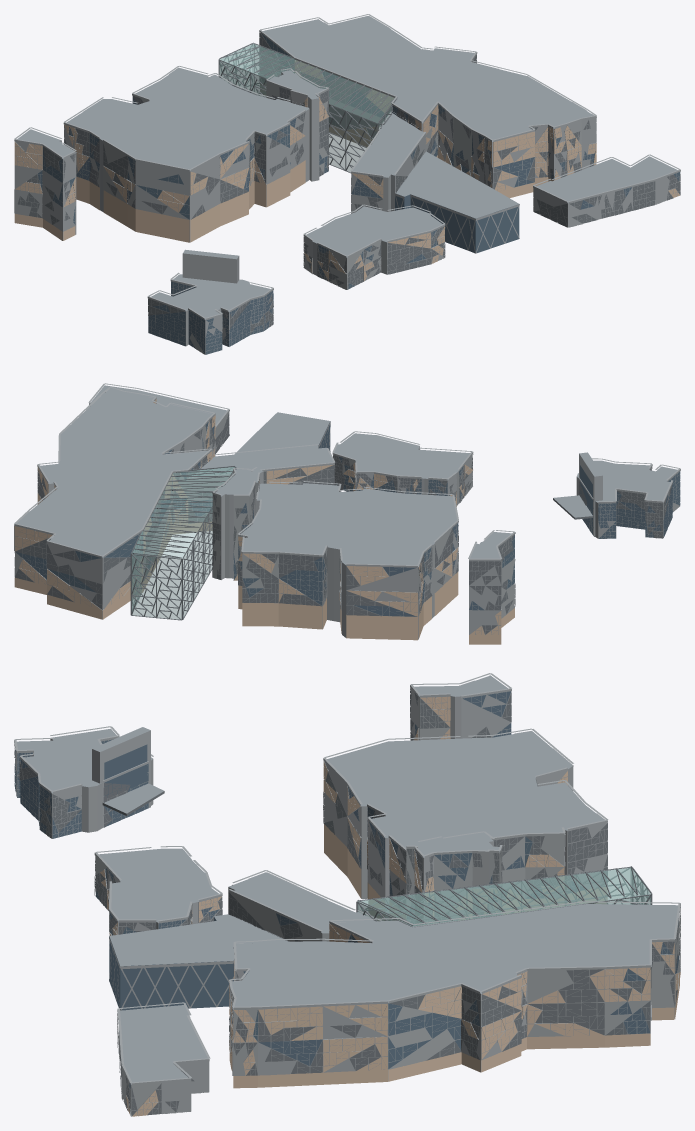
Rendered from melbourne-federation-square.detail.glb.
3 views of the same model, one above another, from view 1: azimuth 30°, elevation 25°; view 2: azimuth 150°, elevation 25°; view 3: azimuth 270°, elevation 25° (orthographic). The views are drawn at different scales.
Visible parts, largest first — view 1: Federation Square; view 2: Federation Square; view 3: Federation Square.
Boxes of the visible parts, <box> form: Federation Square: <box>14,14,680,354</box>; Federation Square: <box>14,383,680,644</box>; Federation Square: <box>14,673,680,1116</box>.
Size of the model in its own units: 211 by 31.1 by 173.
